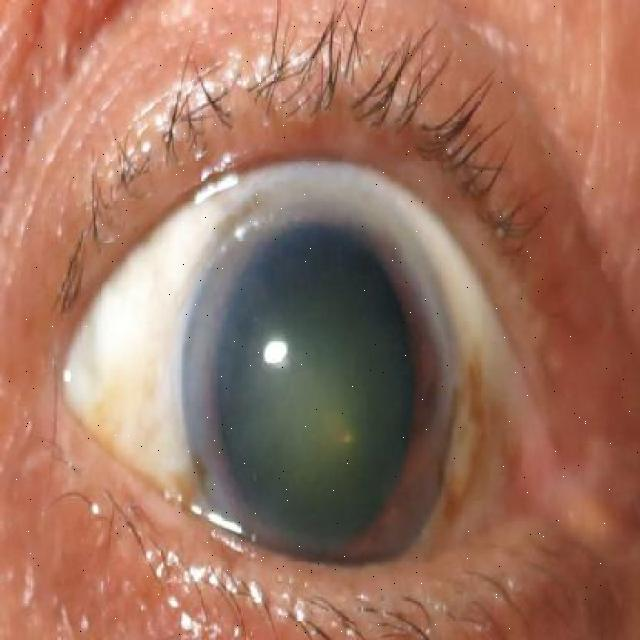Cataract: (177, 175, 462, 612)
